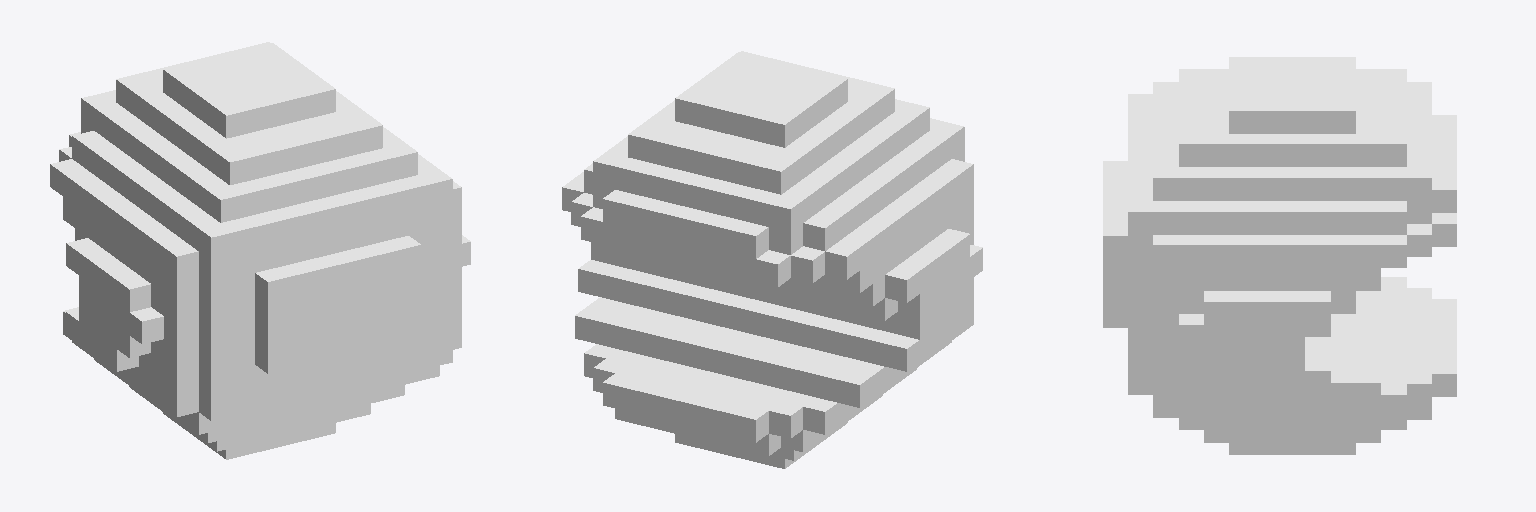
Rendered from pacman.obj.
3 views of the same model, side by side, from view 1: azimuth 30°, elevation 25°; view 2: azimuth 150°, elevation 25°; view 3: azimuth 270°, elevation 25° (orthographic).
Bounding box in the file's own units: 15 × 15 × 14.